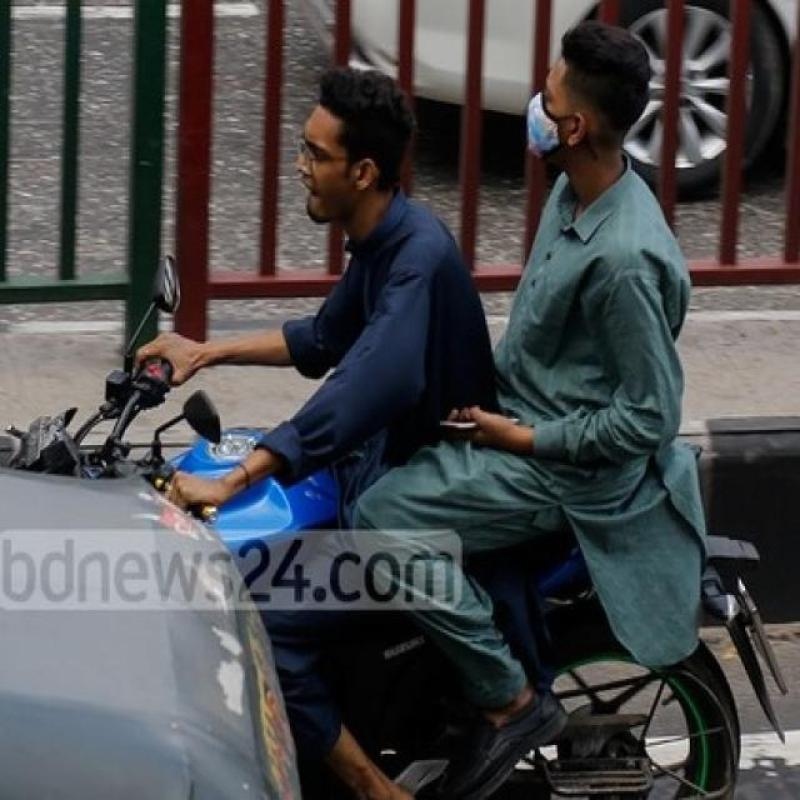nohelmet: (286, 65, 450, 264), (522, 0, 668, 165)
